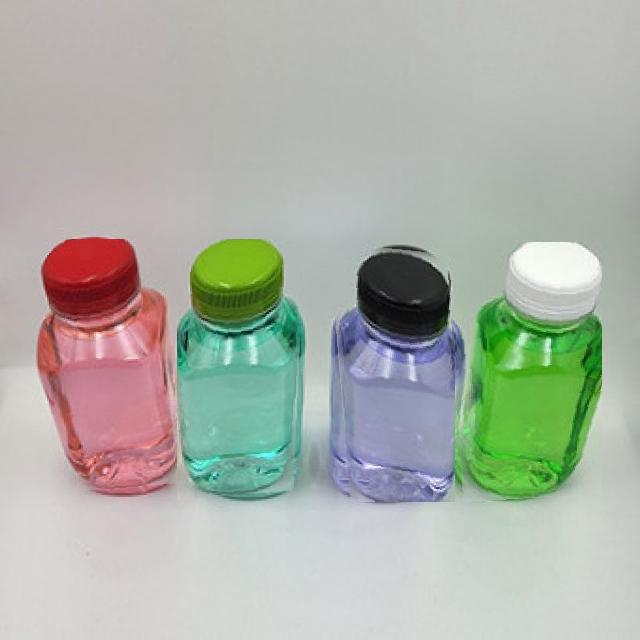plastic bottle: (446, 242, 602, 502), (34, 239, 186, 495), (177, 239, 305, 501), (330, 242, 456, 502)
